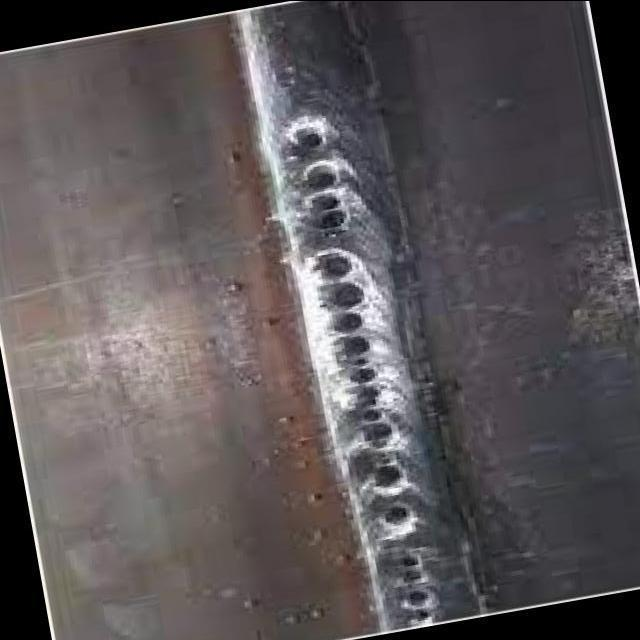defect: (306, 245, 403, 453), (283, 119, 358, 239), (394, 547, 441, 622), (361, 462, 413, 498), (374, 501, 427, 535)
